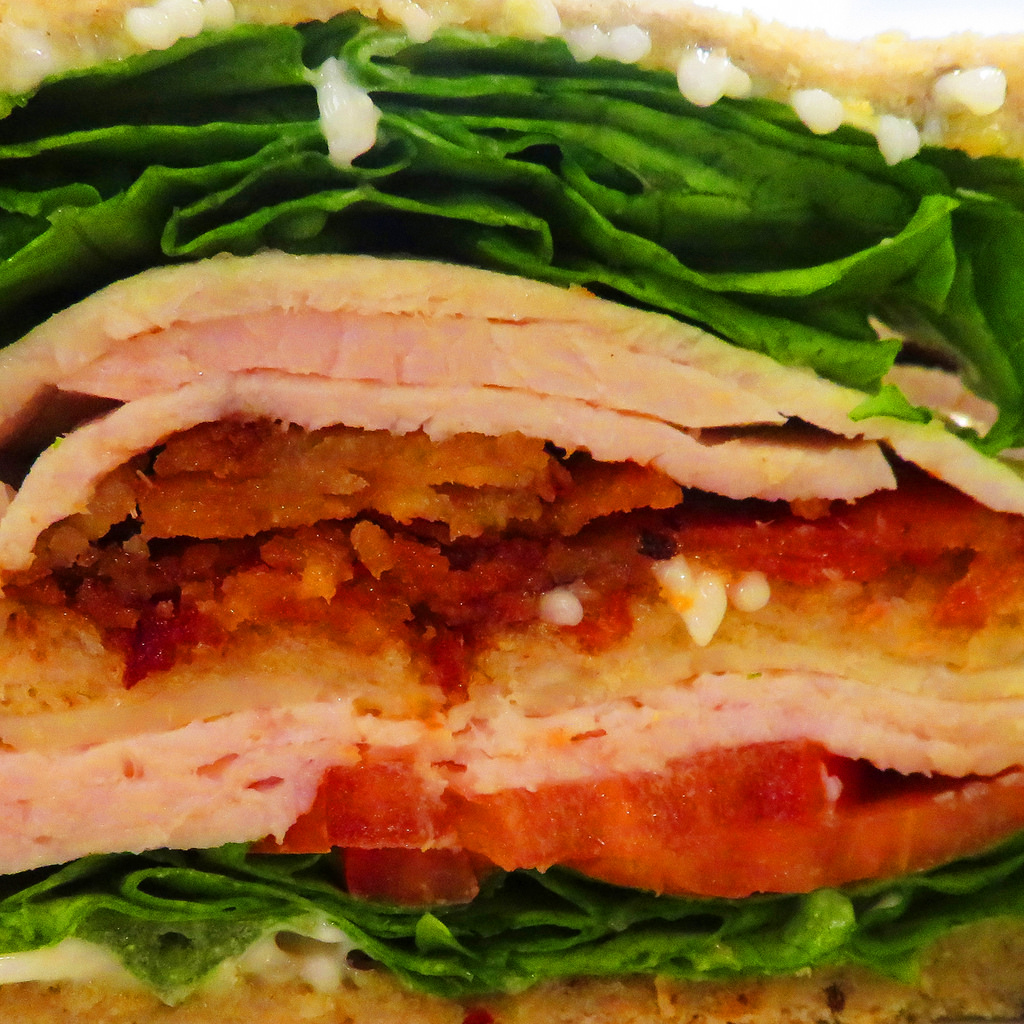chopped lettuce: (17, 73, 963, 299)
